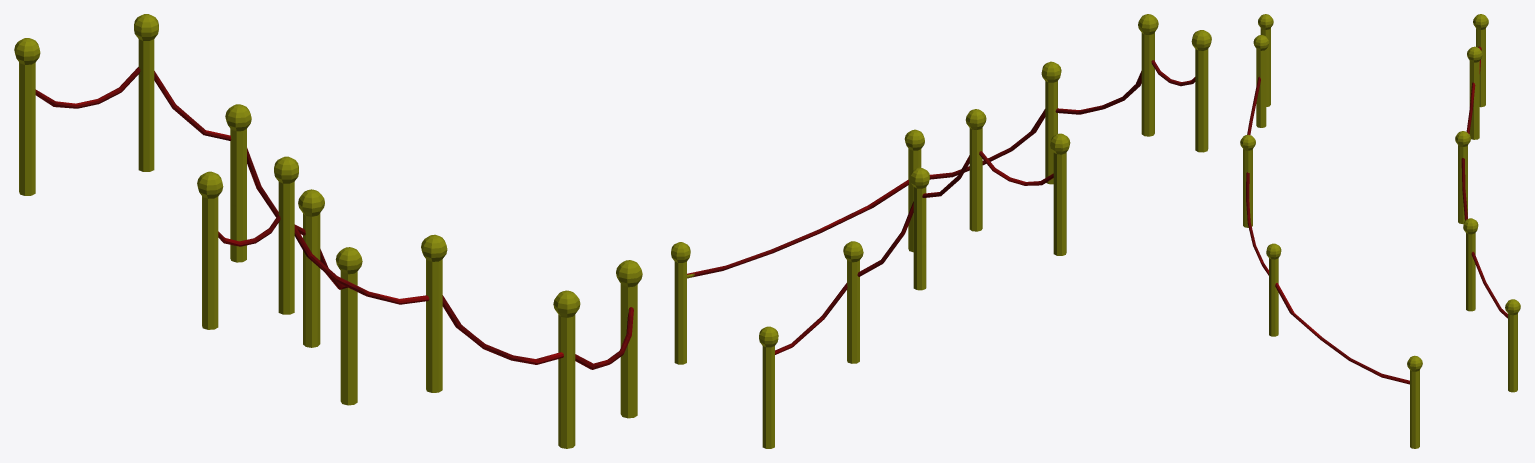
The model's file is Stairs_Railing.fbx.
3 views of the same model, side by side, from view 1: azimuth 30°, elevation 25°; view 2: azimuth 150°, elevation 25°; view 3: azimuth 270°, elevation 25° (orthographic). The views are drawn at different scales.
Parts seen in each view (by area): view 1: polySurface25; view 2: polySurface25; view 3: polySurface25.
Boxes of the visible parts, left/top/right/bottom form: polySurface25: left=14, top=14, right=642, bottom=448; polySurface25: left=671, top=14, right=1211, bottom=448; polySurface25: left=1240, top=14, right=1520, bottom=448.
Size of the model in its own units: 1133 by 890 by 823.
Materials: 1 (1 with a texture image).
